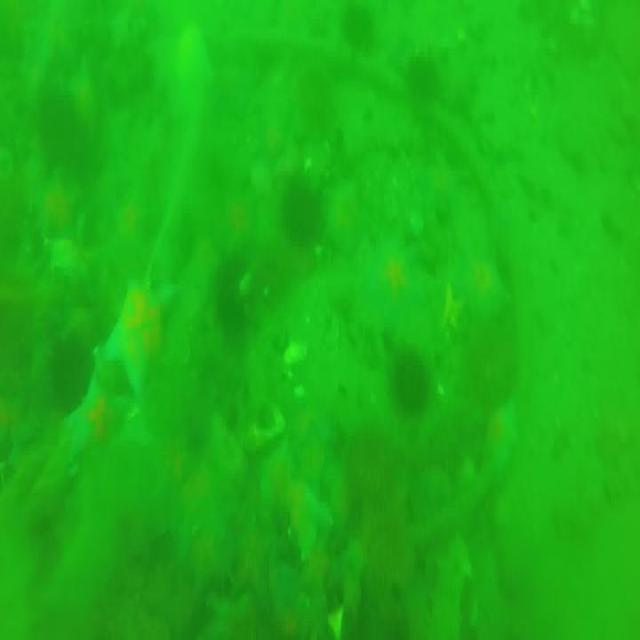echinus: (111, 275, 176, 405), (284, 484, 334, 556), (36, 90, 76, 166), (50, 333, 87, 411), (212, 261, 249, 332), (280, 184, 322, 246), (388, 351, 426, 411), (338, 6, 378, 57), (401, 58, 439, 96)
scallop: (247, 404, 285, 442)
